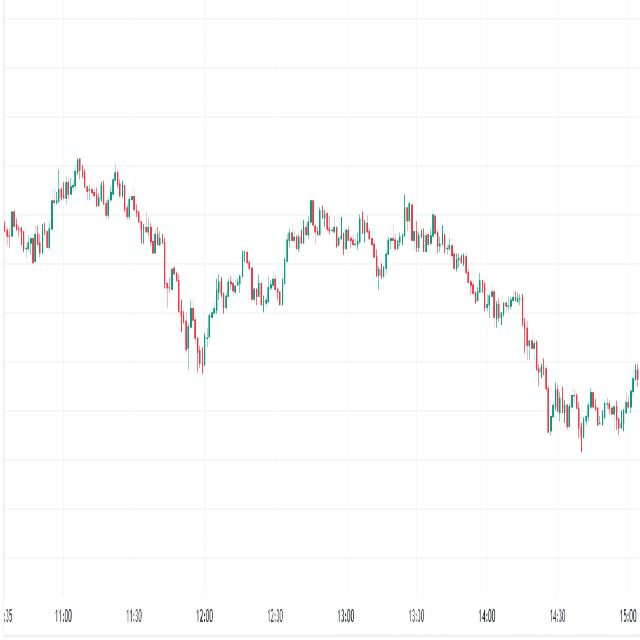Double-Bottom: (173, 270, 216, 380)
